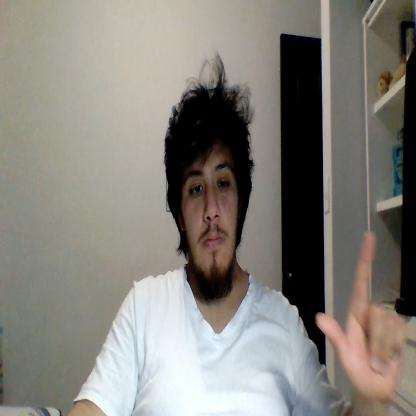L: (317, 230, 403, 401)
